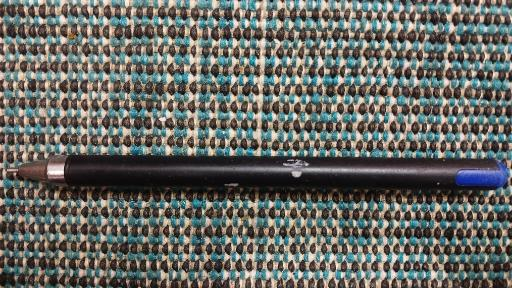pen: (6, 156, 512, 189)
